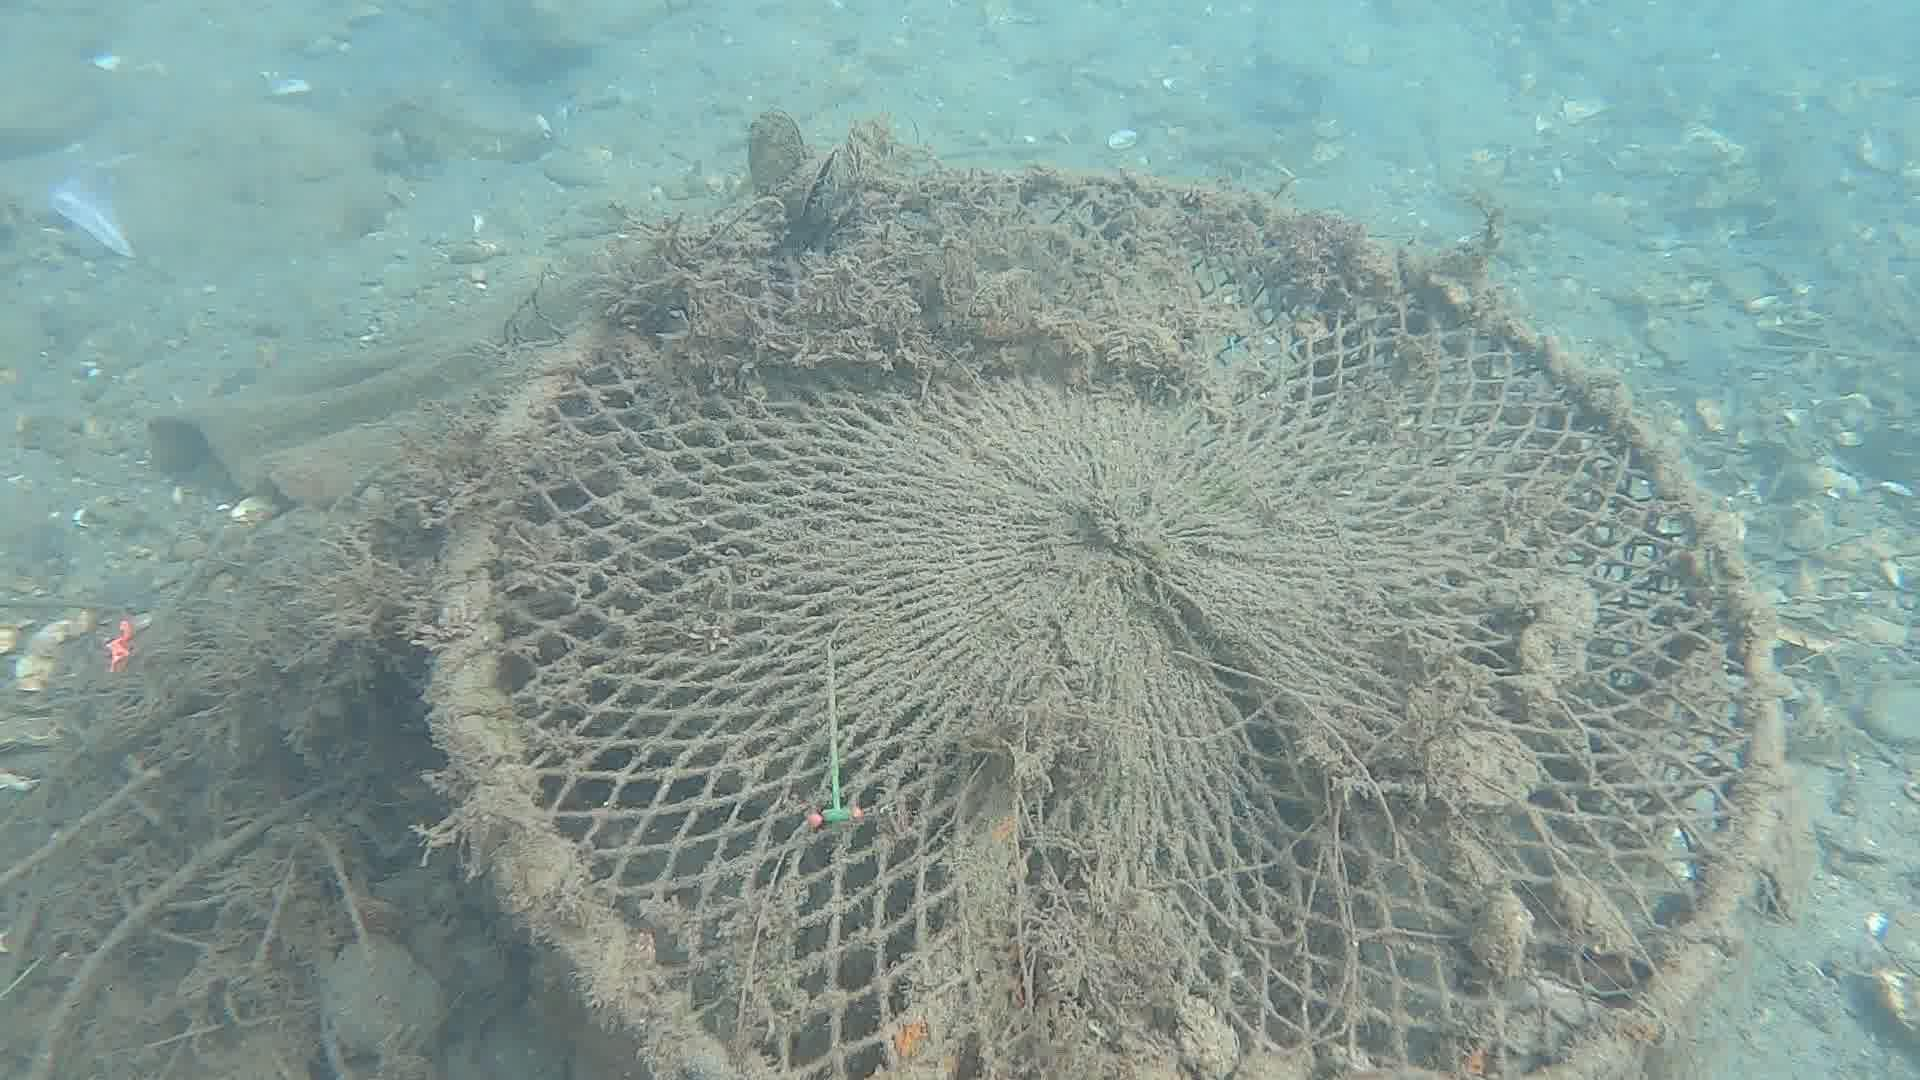circular fish trap: (433, 166, 1788, 1080)
